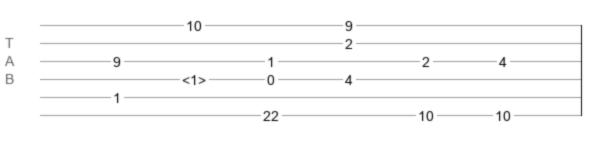0: (267, 72, 275, 82)
1: (113, 90, 121, 100), (267, 54, 275, 64)
10: (186, 18, 202, 28), (418, 108, 434, 118), (495, 108, 511, 118)
2: (345, 36, 353, 46), (422, 54, 430, 64)
22: (263, 108, 279, 118)
4: (345, 72, 353, 82), (499, 54, 507, 64)
9: (113, 54, 121, 64), (345, 18, 353, 28)
harmonic: (182, 72, 206, 82)
